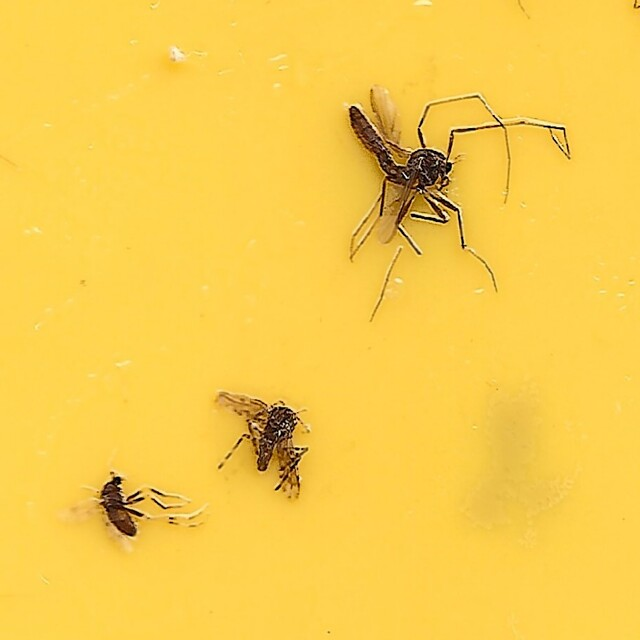Brachycera: (70, 472, 214, 558)
Nematocera: (338, 82, 570, 309), (216, 384, 309, 507)
